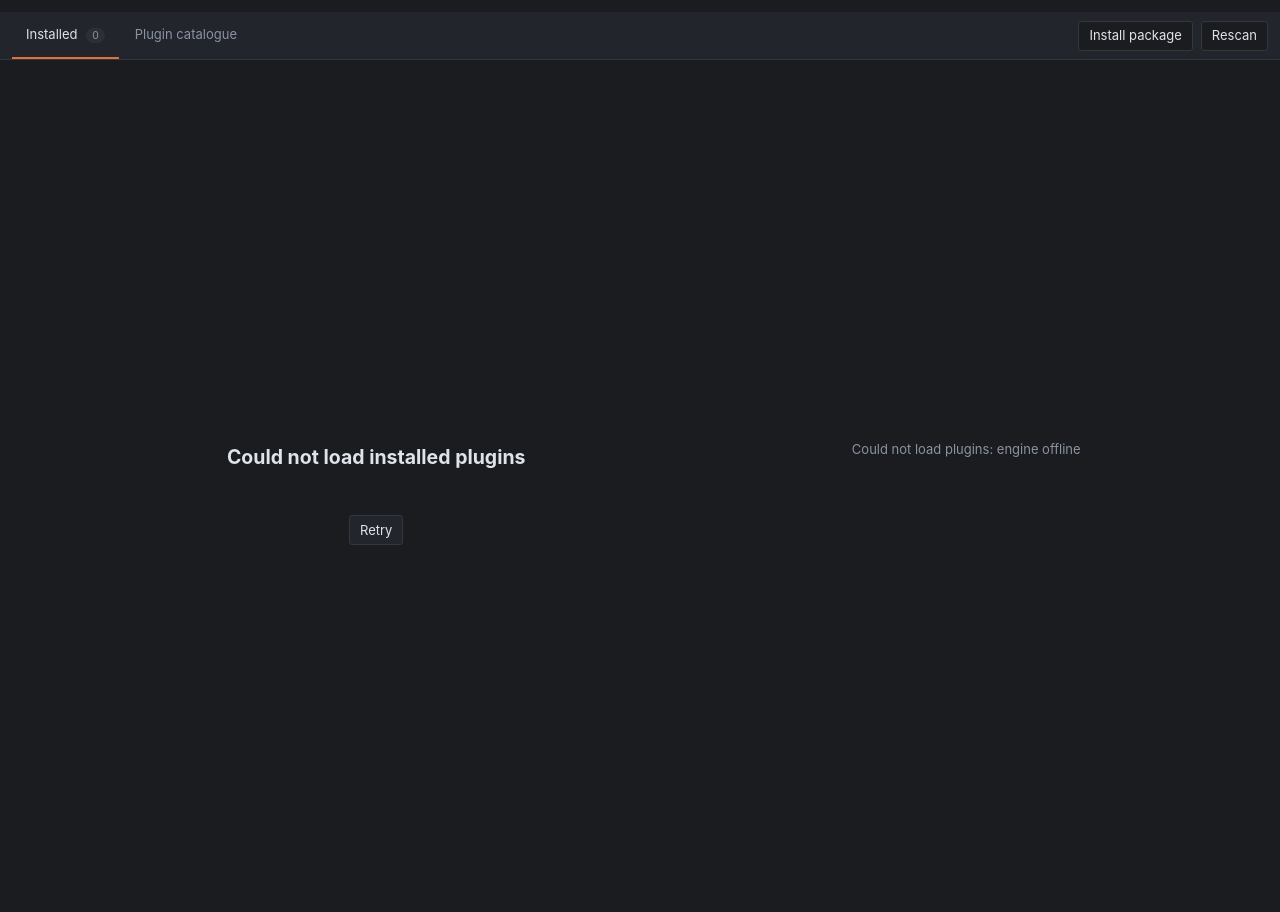
Test: PluginsTab › shows a retry state when the initial plugin list fails
Expected: the heading "Could not load installed plugins" is shown, [227,443,526,471]
Click the button "Retry".
click(376, 530)  # box [349,515,403,545]
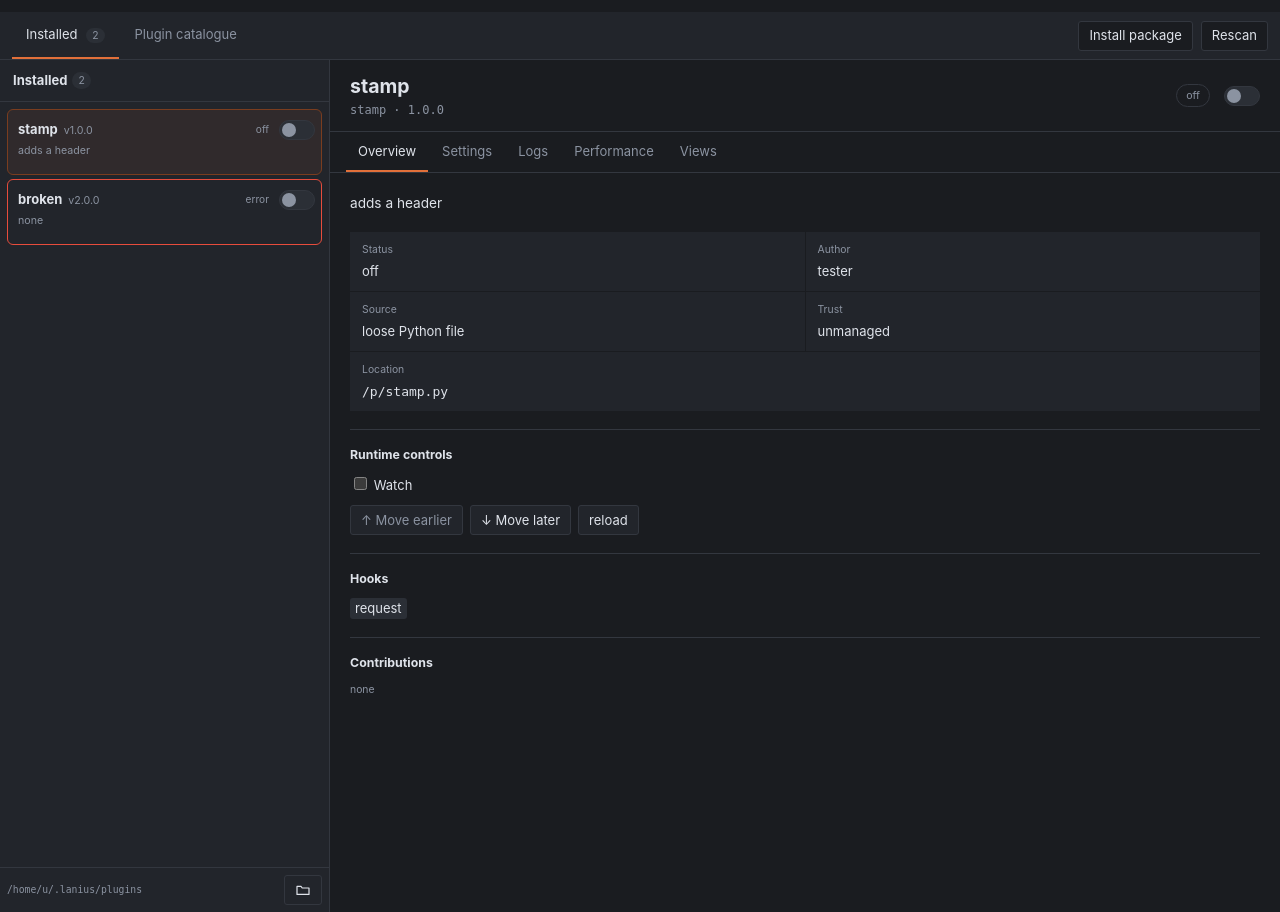
Now the text "/p/stamp.py" is shown, box [362,384,448,399]
